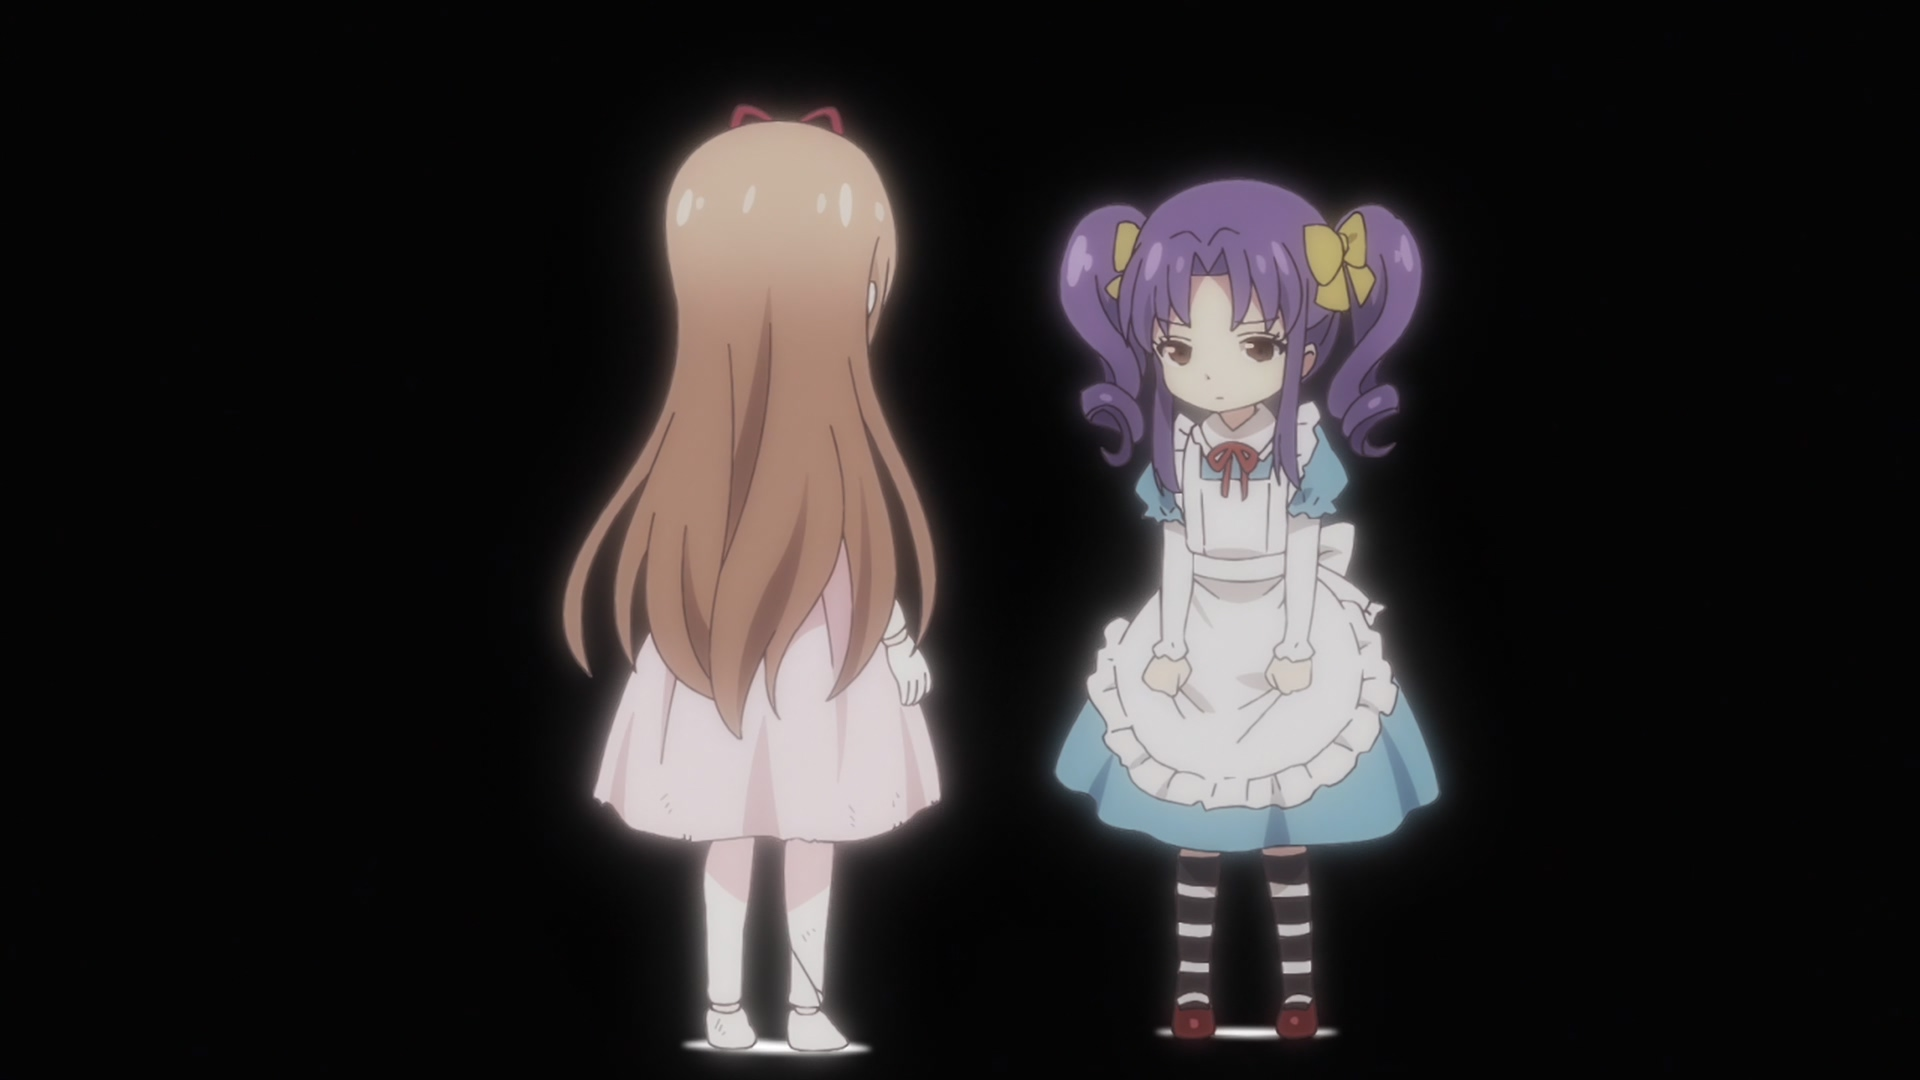其他: (563, 104, 942, 1056)
阿菊: (1054, 179, 1443, 1042)
